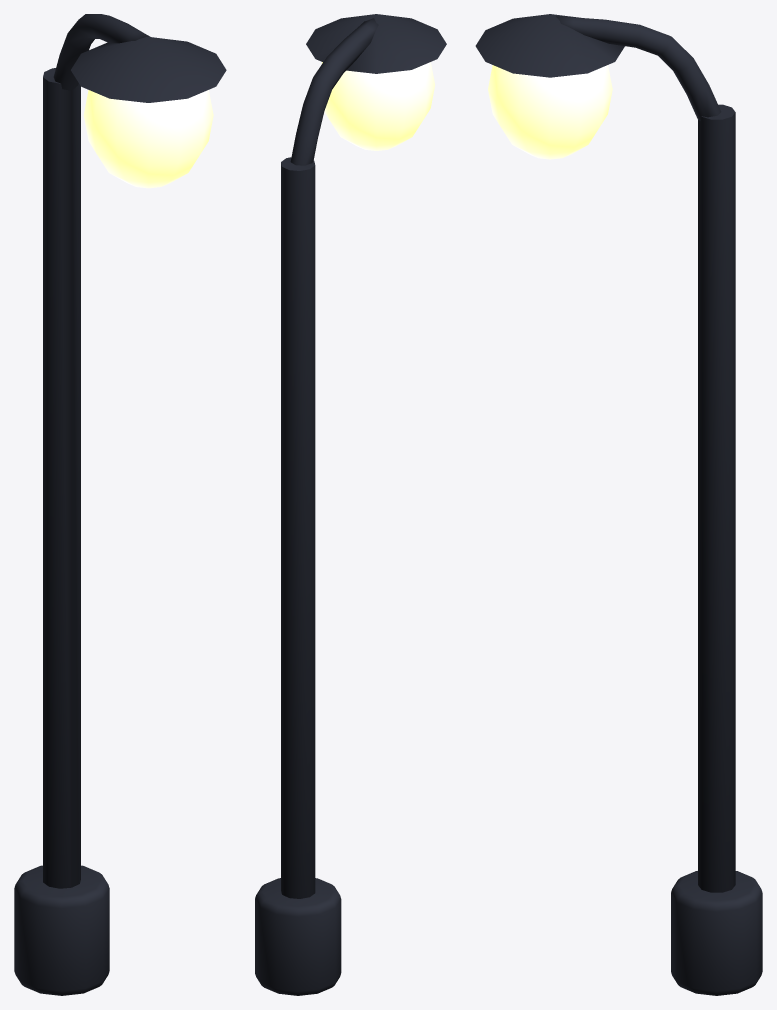
File: lamp.glb
3 renders of one model, left to right at view 1: azimuth 30°, elevation 25°; view 2: azimuth 150°, elevation 25°; view 3: azimuth 270°, elevation 25°, orthographic. The views are drawn at different scales.
Visible parts, largest first — view 1: Lamp; view 2: Lamp; view 3: Lamp.
Part boxes in pixels (x1,y1,x2,y2): Lamp: (14, 14, 226, 995); Lamp: (255, 14, 446, 995); Lamp: (475, 14, 762, 995).
Size of the model in its own units: 0.72 by 5.12 by 1.38.
